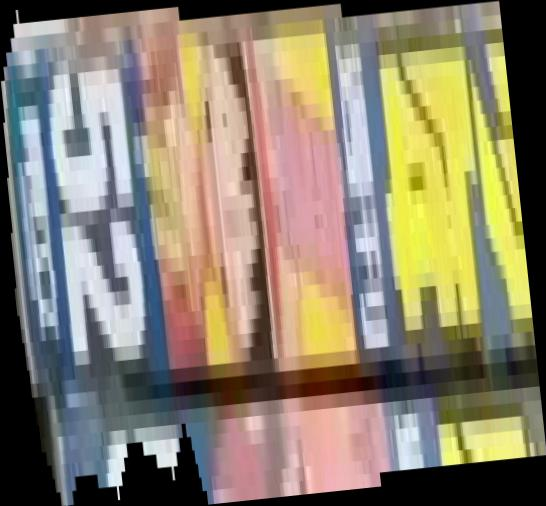flat: (1, 1, 546, 506)
